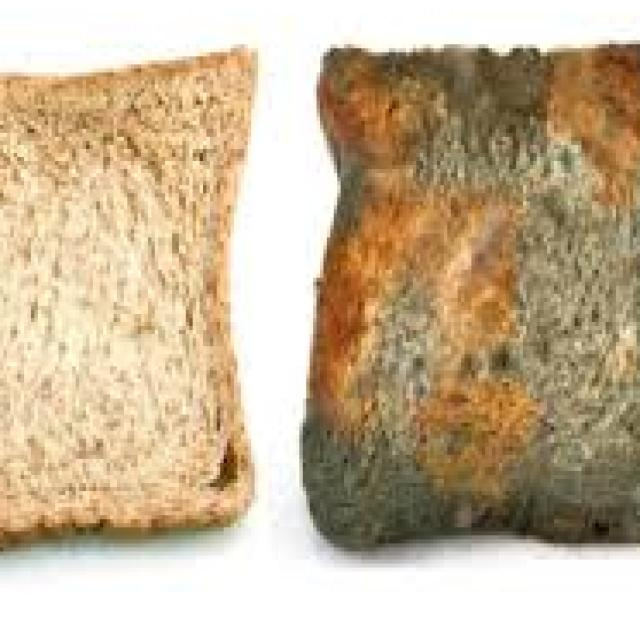inorganic: (302, 74, 622, 556), (3, 82, 263, 552)
